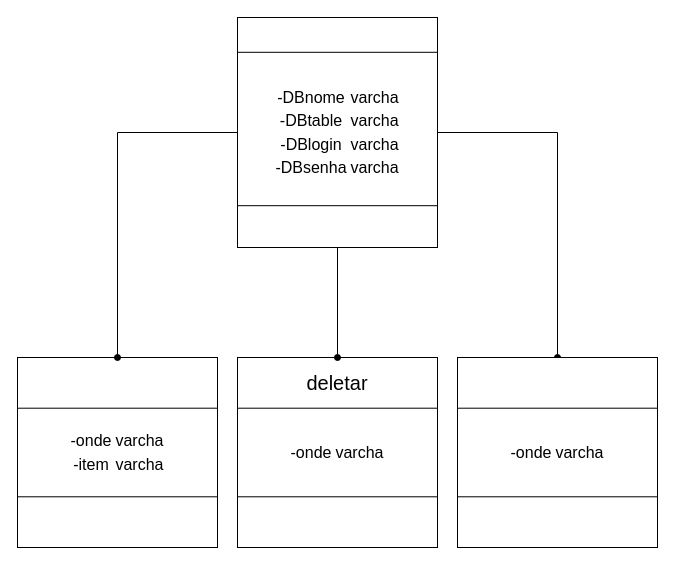
Some shapes in this 675 by 565 pixel diagram are drawn without their labels. Here are the shapes that lost their labels. From the top down, the centre of each, then its label:
(x=337, y=34): DBclass
(x=117, y=382): inserir
(x=557, y=382): seleciona
